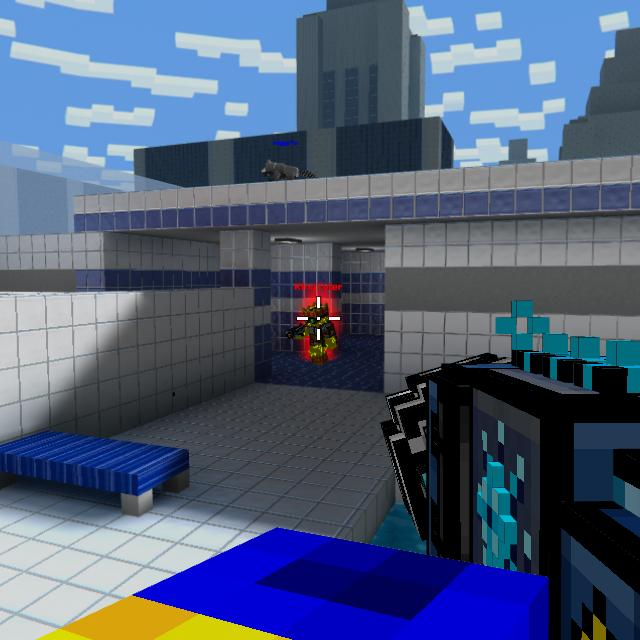Enemy: (300, 301, 338, 366)
